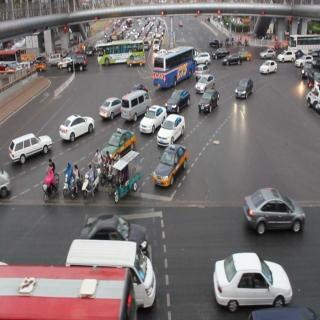BigCar: (0, 247, 139, 320), (151, 46, 197, 84), (95, 42, 146, 68)
Car: (62, 236, 159, 302), (216, 256, 287, 311), (244, 182, 310, 241), (82, 210, 152, 252), (150, 143, 189, 188), (7, 134, 52, 164), (101, 128, 137, 157), (57, 115, 90, 140), (161, 115, 187, 146), (196, 88, 222, 117), (121, 91, 147, 118), (140, 104, 164, 132), (166, 89, 193, 110), (99, 95, 119, 121), (235, 76, 256, 98), (67, 53, 87, 72), (197, 70, 216, 88), (222, 50, 242, 66), (259, 58, 276, 75)
